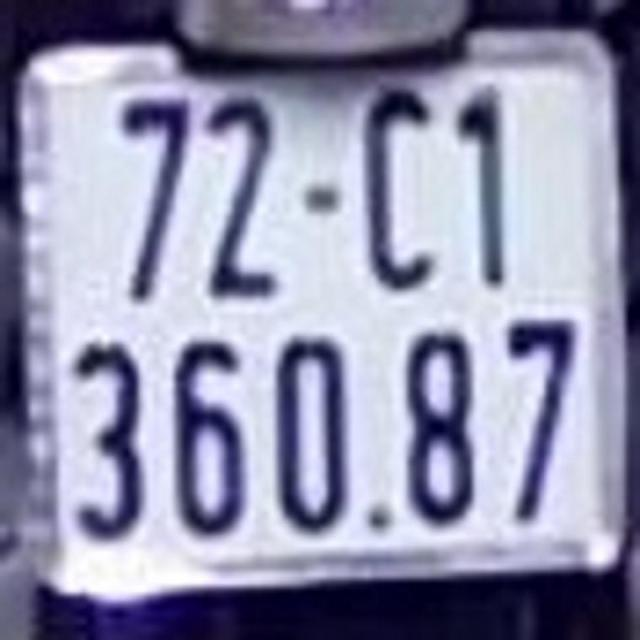0: (268, 325, 354, 536)
1: (450, 77, 522, 286)
2: (201, 88, 283, 310)
3: (63, 332, 148, 540)
6: (161, 327, 251, 539)
7: (496, 306, 581, 528), (110, 91, 192, 304)
8: (393, 319, 481, 523)
C: (354, 82, 440, 296)
